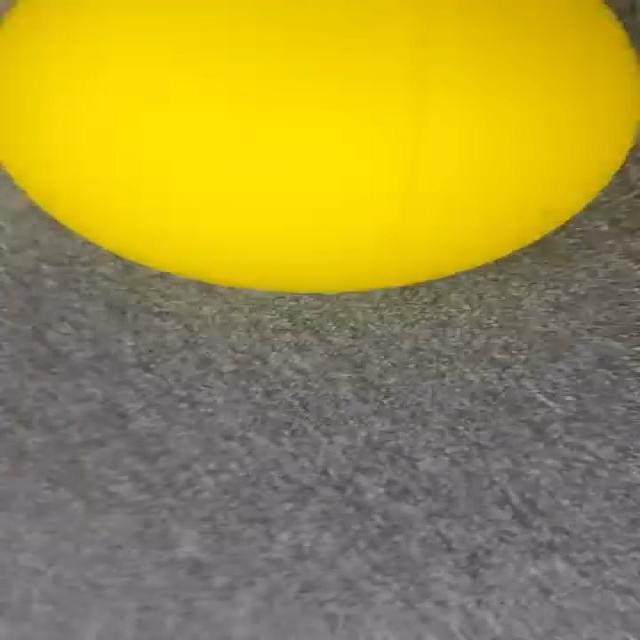Fuels: (0, 0, 638, 291)
